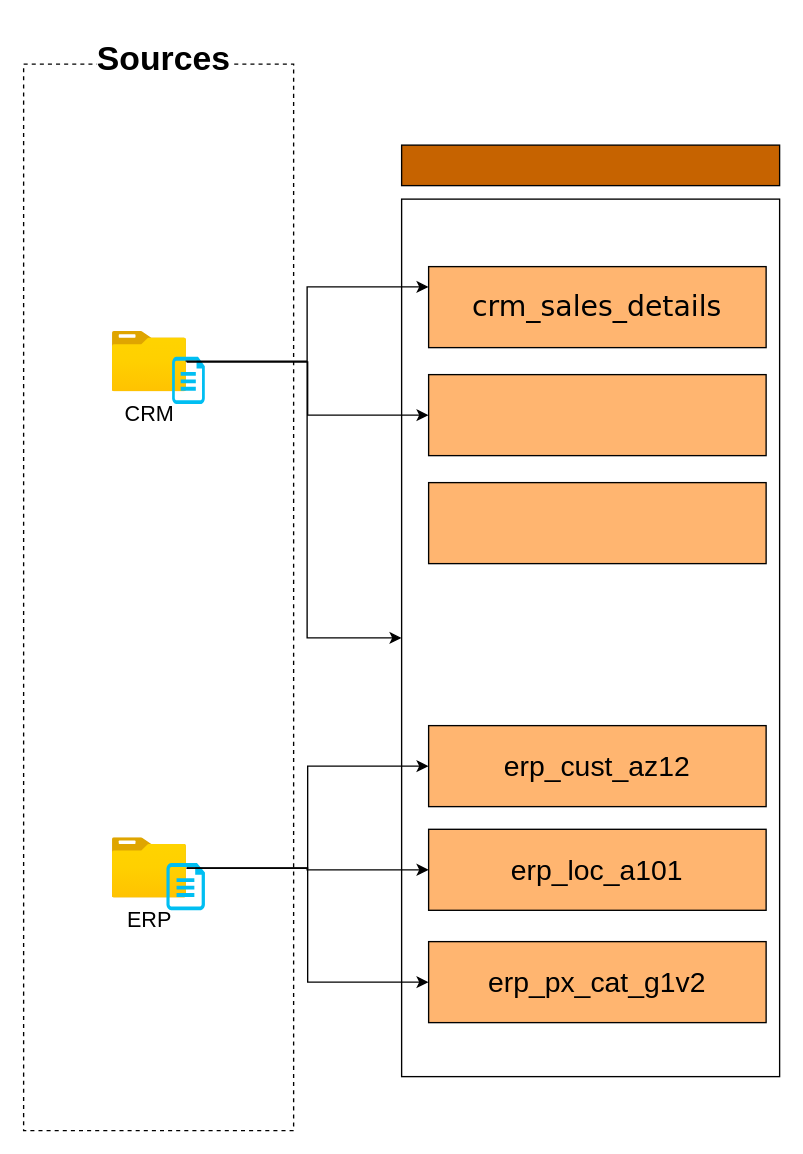
This 803x1154 diagram has some shape labels left out. Each missing label, with the centre of its shape:
"Bronze" goes at (x=590, y=165).
"crm_cust_info" goes at (x=596, y=414).
"crm_prd_info" goes at (x=596, y=522).
